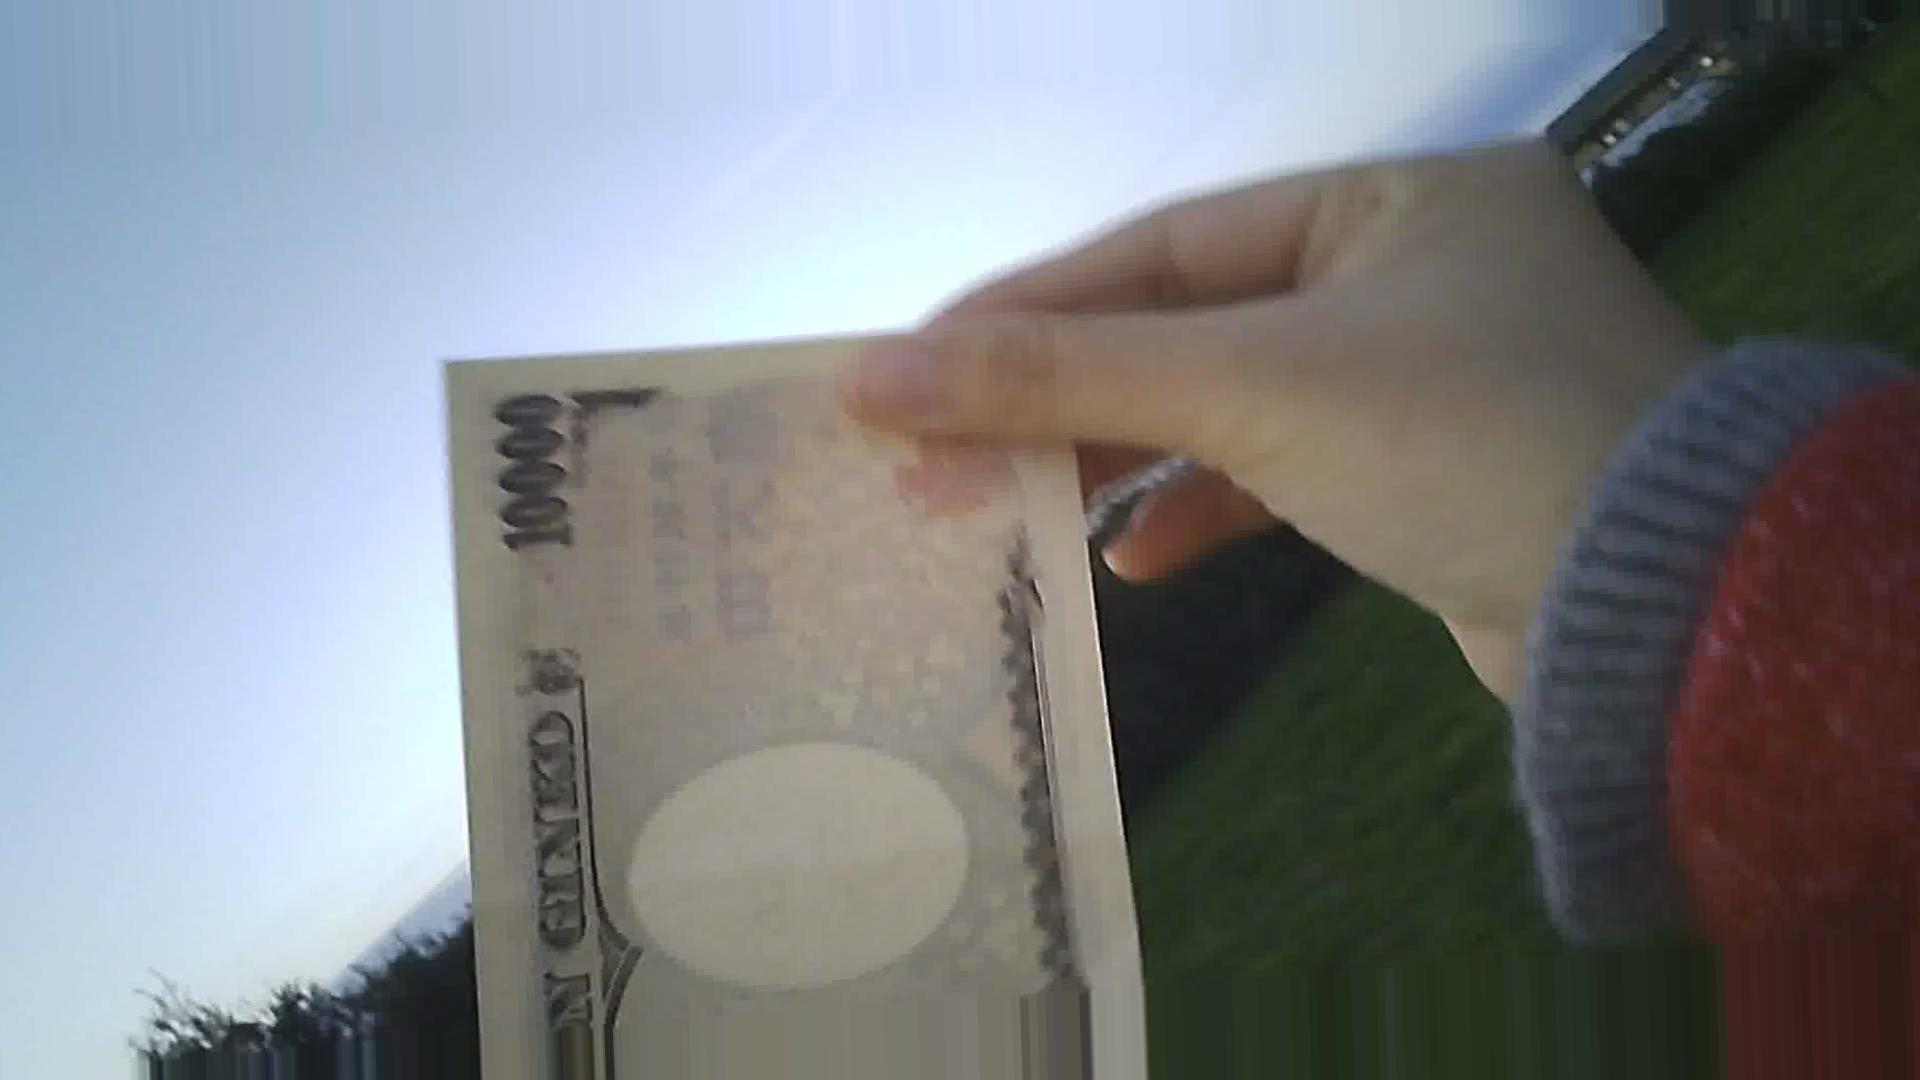10,000 Yen: (410, 327, 1168, 955)
